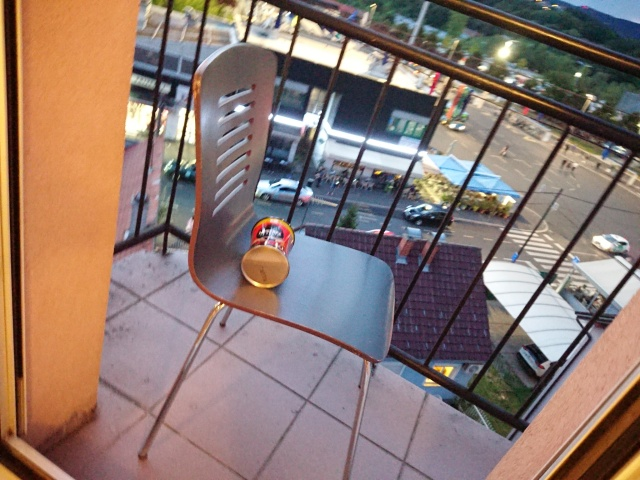Nescafe Classic 225g: (238, 214, 298, 292)
